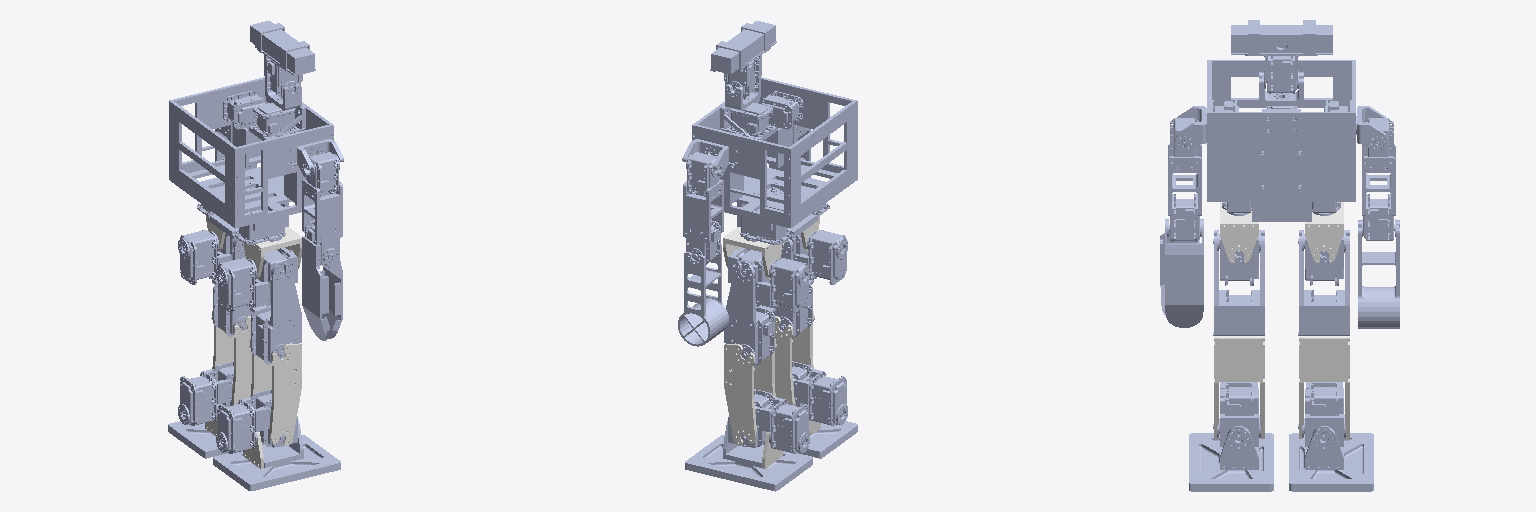
--- Render facts (derived) ---
Views: 3 orthographic renders of the robot side by side, from view 1: azimuth 30°, elevation 25°; view 2: azimuth 150°, elevation 25°; view 3: azimuth 270°, elevation 25°.
Model src_whole with 23 links and 22 joints (22 revolute), rooted at base_link, posed all joints at 0.
Links seen in each view (by area): view 1: base_link, RSHR_Link, RS_Link, RPd_Link, RK_Link, RPm_Link, NP_Link, RAP_Link, LAP_Link, LPm_Link, LK_Link, NY_Link (+5 smaller); view 2: base_link, LS_Link, LSHR_Link, LK_Link, LE_Link, LPd_Link, LPm_Link, NP_Link, LAP_Link, RAP_Link, RPm_Link, RK_Link (+5 smaller); view 3: base_link, RS_Link, LS_Link, NP_Link, RSHR_Link, LSHR_Link, RE_Link, RK_Link, LK_Link, RPd_Link, LPd_Link, LE_Link (+9 smaller).
Boxes of the visible links, left/top/right/bottom form: base_link: left=169, top=77, right=333, bottom=244; RSHR_Link: left=302, top=152, right=342, bottom=340; RS_Link: left=213, top=420, right=340, bottom=490; RPd_Link: left=250, top=263, right=301, bottom=364; RK_Link: left=249, top=339, right=301, bottom=445; RPm_Link: left=216, top=247, right=297, bottom=312; NP_Link: left=250, top=21, right=315, bottom=97; RAP_Link: left=216, top=389, right=297, bottom=453; LAP_Link: left=178, top=361, right=233, bottom=425; LPm_Link: left=178, top=230, right=243, bottom=284; LK_Link: left=211, top=311, right=251, bottom=405; NY_Link: left=253, top=77, right=301, bottom=136; base_link: left=692, top=77, right=857, bottom=244; LS_Link: left=685, top=421, right=812, bottom=491; LSHR_Link: left=683, top=152, right=723, bottom=264; LK_Link: left=724, top=339, right=776, bottom=445; LE_Link: left=678, top=244, right=728, bottom=346; LPd_Link: left=724, top=263, right=775, bottom=365; LPm_Link: left=728, top=247, right=809, bottom=312; NP_Link: left=710, top=21, right=776, bottom=97; LAP_Link: left=728, top=389, right=809, bottom=453; RAP_Link: left=792, top=361, right=847, bottom=426; RPm_Link: left=782, top=230, right=847, bottom=284; RK_Link: left=775, top=311, right=814, bottom=405; base_link: left=1207, top=60, right=1356, bottom=221; RS_Link: left=1189, top=429, right=1273, bottom=491; LS_Link: left=1289, top=429, right=1373, bottom=491; NP_Link: left=1231, top=20, right=1332, bottom=93; RSHR_Link: left=1160, top=118, right=1201, bottom=315; LSHR_Link: left=1362, top=118, right=1398, bottom=240; RE_Link: left=1165, top=219, right=1203, bottom=327; RK_Link: left=1214, top=336, right=1264, bottom=438; LK_Link: left=1299, top=336, right=1349, bottom=438; RPd_Link: left=1213, top=230, right=1264, bottom=335; LPd_Link: left=1298, top=230, right=1349, bottom=335; LE_Link: left=1358, top=220, right=1399, bottom=328.
Bounding box of the posed robot: 0.15 × 0.2813 × 0.5895 m (x, y, z).
Meshes: 23 distinct files referenced, 23 mesh visuals loaded (23 binary STL).

The robot description file, URDF, robot "src_whole":
<?xml version="1.0" encoding="utf-8"?>
<!-- This URDF was automatically created by SolidWorks to URDF Exporter! Originally created by Stephen Brawner ([email redacted]) 
     Commit Version: 1.6.0-1-g15f4949  Build Version: 1.6.7594.29634
     For more information, please see http://wiki.ros.org/sw_urdf_exporter -->
<robot
  name="src_whole">
  <link
    name="base_link">
    <inertial>
      <origin
        xyz="-0.0016597 -4.3961E-06 -0.0041776"
        rpy="0 0 0" />
      <mass
        value="0.75139" />
      <inertia
        ixx="0.0010428"
        ixy="-5.7481E-07"
        ixz="1.2257E-05"
        iyy="0.00092792"
        iyz="1.0592E-07"
        izz="0.0012549" />
    </inertial>
    <visual>
      <origin
        xyz="0 0 0"
        rpy="0 0 0" />
      <geometry>
        <mesh
          filename="package://src_whole/meshes/base_link.STL" />
      </geometry>
      <material
        name="">
        <color
          rgba="0.79216 0.81961 0.93333 1" />
      </material>
    </visual>
    <collision>
      <origin
        xyz="0 0 0"
        rpy="0 0 0" />
      <geometry>
        <mesh
          filename="package://src_whole/meshes/base_link.STL" />
      </geometry>
    </collision>
  </link>
  <link
    name="RP_link">
    <inertial>
      <origin
        xyz="0.0038843 -1.1976E-07 0.027759"
        rpy="0 0 0" />
      <mass
        value="0.032185" />
      <inertia
        ixx="8.1509E-06"
        ixy="2.6555E-22"
        ixz="2.5914E-09"
        iyy="6.7466E-06"
        iyz="2.4212E-11"
        izz="9.2429E-06" />
    </inertial>
    <visual>
      <origin
        xyz="0 0 0"
        rpy="0 0 0" />
      <geometry>
        <mesh
          filename="package://src_whole/meshes/RP_link.STL" />
      </geometry>
      <material
        name="">
        <color
          rgba="1 1 1 1" />
      </material>
    </visual>
    <collision>
      <origin
        xyz="0 0 0"
        rpy="0 0 0" />
      <geometry>
        <mesh
          filename="package://src_whole/meshes/RP_link.STL" />
      </geometry>
    </collision>
  </link>
  <joint
    name="RP"
    type="revolute">
    <origin
      xyz="-0.0085875 -0.049942 -0.11568"
      rpy="0 0 0" />
    <parent
      link="base_link" />
    <child
      link="RP_link" />
    <axis
      xyz="0 0 1" />
    <limit
      lower="0"
      upper="0"
      effort="0"
      velocity="0" />
  </joint>
  <link
    name="RPm_Link">
    <inertial>
      <origin
        xyz="-0.019927 2.638E-05 -0.014808"
        rpy="0 0 0" />
      <mass
        value="0.18625" />
      <inertia
        ixx="7.3206E-05"
        ixy="2.1305E-09"
        ixz="-8.425E-07"
        iyy="6.5856E-05"
        iyz="3.6064E-07"
        izz="4.4648E-05" />
    </inertial>
    <visual>
      <origin
        xyz="0 0 0"
        rpy="0 0 0" />
      <geometry>
        <mesh
          filename="package://src_whole/meshes/RPm_Link.STL" />
      </geometry>
      <material
        name="">
        <color
          rgba="0.79216 0.81961 0.93333 1" />
      </material>
    </visual>
    <collision>
      <origin
        xyz="0 0 0"
        rpy="0 0 0" />
      <geometry>
        <mesh
          filename="package://src_whole/meshes/RPm_Link.STL" />
      </geometry>
    </collision>
  </link>
  <joint
    name="RPm"
    type="revolute">
    <origin
      xyz="0 0 0"
      rpy="0 0 0" />
    <parent
      link="RP_link" />
    <child
      link="RPm_Link" />
    <axis
      xyz="-1 0 0" />
    <limit
      lower="0"
      upper="0"
      effort="0"
      velocity="0" />
  </joint>
  <link
    name="RPd_Link">
    <inertial>
      <origin
        xyz="0.0052288 -3.1661E-05 -0.087344"
        rpy="0 0 0" />
      <mass
        value="0.15516" />
      <inertia
        ixx="8.6755E-05"
        ixy="-2.1454E-09"
        ixz="6.58E-06"
        iyy="7.9237E-05"
        iyz="3.6064E-07"
        izz="3.7712E-05" />
    </inertial>
    <visual>
      <origin
        xyz="0 0 0"
        rpy="0 0 0" />
      <geometry>
        <mesh
          filename="package://src_whole/meshes/RPd_Link.STL" />
      </geometry>
      <material
        name="">
        <color
          rgba="0.79608 0.82353 0.93725 1" />
      </material>
    </visual>
    <collision>
      <origin
        xyz="0 0 0"
        rpy="0 0 0" />
      <geometry>
        <mesh
          filename="package://src_whole/meshes/RPd_Link.STL" />
      </geometry>
    </collision>
  </link>
  <joint
    name="RPd"
    type="revolute">
    <origin
      xyz="0 0 0"
      rpy="0 0 0" />
    <parent
      link="RPm_Link" />
    <child
      link="RPd_Link" />
    <axis
      xyz="0 1 0" />
    <limit
      lower="0"
      upper="0"
      effort="0"
      velocity="0" />
  </joint>
  <link
    name="RK_Link">
    <inertial>
      <origin
        xyz="0.011128 1.9486E-07 -0.046701"
        rpy="0 0 0" />
      <mass
        value="0.076683" />
      <inertia
        ixx="8.1384E-05"
        ixy="-5.3754E-13"
        ixz="-6.8263E-06"
        iyy="8.6027E-05"
        iyz="-1.5763E-12"
        izz="1.2623E-05" />
    </inertial>
    <visual>
      <origin
        xyz="0 0 0"
        rpy="0 0 0" />
      <geometry>
        <mesh
          filename="package://src_whole/meshes/RK_Link.STL" />
      </geometry>
      <material
        name="">
        <color
          rgba="0.96863 0.96863 0.96863 1" />
      </material>
    </visual>
    <collision>
      <origin
        xyz="0 0 0"
        rpy="0 0 0" />
      <geometry>
        <mesh
          filename="package://src_whole/meshes/RK_Link.STL" />
      </geometry>
    </collision>
  </link>
  <joint
    name="RK"
    type="revolute">
    <origin
      xyz="0.0008 0 -0.12"
      rpy="0 0 0" />
    <parent
      link="RPd_Link" />
    <child
      link="RK_Link" />
    <axis
      xyz="0 1 0" />
    <limit
      lower="0"
      upper="0"
      effort="0"
      velocity="0" />
  </joint>
  <link
    name="RAP_Link">
    <inertial>
      <origin
        xyz="-0.019927 -3.5076E-05 0.014808"
        rpy="0 0 0" />
      <mass
        value="0.18625" />
      <inertia
        ixx="7.3206E-05"
        ixy="-2.1306E-09"
        ixz="8.425E-07"
        iyy="6.5856E-05"
        iyz="3.6064E-07"
        izz="4.4648E-05" />
    </inertial>
    <visual>
      <origin
        xyz="0 0 0"
        rpy="0 0 0" />
      <geometry>
        <mesh
          filename="package://src_whole/meshes/RAP_Link.STL" />
      </geometry>
      <material
        name="">
        <color
          rgba="0.79216 0.81961 0.93333 1" />
      </material>
    </visual>
    <collision>
      <origin
        xyz="0 0 0"
        rpy="0 0 0" />
      <geometry>
        <mesh
          filename="package://src_whole/meshes/RAP_Link.STL" />
      </geometry>
    </collision>
  </link>
  <joint
    name="RAP"
    type="revolute">
    <origin
      xyz="-0.00079565 0 -0.12"
      rpy="0 0 0" />
    <parent
      link="RK_Link" />
    <child
      link="RAP_Link" />
    <axis
      xyz="0 1 0" />
    <limit
      lower="0"
      upper="0"
      effort="0"
      velocity="0" />
  </joint>
  <link
    name="RAR_Link">
    <inertial>
      <origin
        xyz="-0.0266 -2.1011E-08 -0.019713"
        rpy="0 0 0" />
      <mass
        value="0.0084038" />
      <inertia
        ixx="2.5925E-06"
        ixy="-1.2568E-22"
        ixz="-1.2942E-22"
        iyy="1.3986E-06"
        iyz="1.2106E-11"
        izz="1.2289E-06" />
    </inertial>
    <visual>
      <origin
        xyz="0 0 0"
        rpy="0 0 0" />
      <geometry>
        <mesh
          filename="package://src_whole/meshes/RAR_Link.STL" />
      </geometry>
      <material
        name="">
        <color
          rgba="0.92549 0.92549 0.92549 1" />
      </material>
    </visual>
    <collision>
      <origin
        xyz="0 0 0"
        rpy="0 0 0" />
      <geometry>
        <mesh
          filename="package://src_whole/meshes/RAR_Link.STL" />
      </geometry>
    </collision>
  </link>
  <joint
    name="RAR"
    type="revolute">
    <origin
      xyz="0 0 0"
      rpy="0 0 0" />
    <parent
      link="RAP_Link" />
    <child
      link="RAR_Link" />
    <axis
      xyz="-1 0 0" />
    <limit
      lower="0"
      upper="0"
      effort="0"
      velocity="0" />
  </joint>
  <link
    name="RS_Link">
    <inertial>
      <origin
        xyz="0.0047189 -0.0068892 0.0070711"
        rpy="0 0 0" />
      <mass
        value="0.14508" />
      <inertia
        ixx="0.00011554"
        ixy="3.6327E-13"
        ixz="-1.4699E-12"
        iyy="0.0002103"
        iyz="-1.3291E-06"
        izz="0.00031871" />
    </inertial>
    <visual>
      <origin
        xyz="0 0 0"
        rpy="0 0 0" />
      <geometry>
        <mesh
          filename="package://src_whole/meshes/RS_Link.STL" />
      </geometry>
      <material
        name="">
        <color
          rgba="0.79216 0.81961 0.93333 1" />
      </material>
    </visual>
    <collision>
      <origin
        xyz="0 0 0"
        rpy="0 0 0" />
      <geometry>
        <mesh
          filename="package://src_whole/meshes/RS_Link.STL" />
      </geometry>
    </collision>
  </link>
  <joint
    name="RS"
    type="revolute">
    <origin
      xyz="0.00079565 0 -0.05"
      rpy="0 0 0" />
    <parent
      link="RAR_Link" />
    <child
      link="RS_Link" />
    <axis
      xyz="0 0 1" />
    <limit
      lower="0"
      upper="0"
      effort="0"
      velocity="0" />
  </joint>
  <link
    name="LP_Link">
    <inertial>
      <origin
        xyz="0.0038843 -1.1976E-07 0.027759"
        rpy="0 0 0" />
      <mass
        value="0.032185" />
      <inertia
        ixx="8.1509E-06"
        ixy="-3.4128E-22"
        ixz="2.5914E-09"
        iyy="6.7466E-06"
        iyz="2.4212E-11"
        izz="9.2429E-06" />
    </inertial>
    <visual>
      <origin
        xyz="0 0 0"
        rpy="0 0 0" />
      <geometry>
        <mesh
          filename="package://src_whole/meshes/LP_Link.STL" />
      </geometry>
      <material
        name="">
        <color
          rgba="1 1 1 1" />
      </material>
    </visual>
    <collision>
      <origin
        xyz="0 0 0"
        rpy="0 0 0" />
      <geometry>
        <mesh
          filename="package://src_whole/meshes/LP_Link.STL" />
      </geometry>
    </collision>
  </link>
  <joint
    name="LP"
    type="revolute">
    <origin
      xyz="-0.0085875 0.050058 -0.11568"
      rpy="0 0 0" />
    <parent
      link="base_link" />
    <child
      link="LP_Link" />
    <axis
      xyz="0 0 1" />
    <limit
      lower="0"
      upper="0"
      effort="0"
      velocity="0" />
  </joint>
  <link
    name="LPm_Link">
    <inertial>
      <origin
        xyz="-0.0199274437208582 2.63799340881159E-05 -0.0148075586222277"
        rpy="0 0 0" />
      <mass
        value="0.186246782923583" />
      <inertia
        ixx="7.32062294794612E-05"
        ixy="2.13048548408462E-09"
        ixz="-8.42502475240223E-07"
        iyy="6.5855652034397E-05"
        iyz="3.6064211899651E-07"
        izz="4.46475355146299E-05" />
    </inertial>
    <visual>
      <origin
        xyz="0 0 0"
        rpy="0 0 0" />
      <geometry>
        <mesh
          filename="package://src_whole/meshes/LPm_Link.STL" />
      </geometry>
      <material
        name="">
        <color
          rgba="0.792156862745098 0.819607843137255 0.933333333333333 1" />
      </material>
    </visual>
    <collision>
      <origin
        xyz="0 0 0"
        rpy="0 0 0" />
      <geometry>
        <mesh
          filename="package://src_whole/meshes/LPm_Link.STL" />
      </geometry>
    </collision>
  </link>
  <joint
    name="LPm"
    type="revolute">
    <origin
      xyz="0 0 0"
      rpy="0 0 0" />
    <parent
      link="LP_Link" />
    <child
      link="LPm_Link" />
    <axis
      xyz="-1 0 0" />
    <limit
      lower="0"
      upper="0"
      effort="0"
      velocity="0" />
  </joint>
  <link
    name="LPd_Link">
    <inertial>
      <origin
        xyz="0.00522878146276717 -3.16609468157154E-05 -0.0873435911372789"
        rpy="0 0 0" />
      <mass
        value="0.155158404166415" />
      <inertia
        ixx="8.67547471770679E-05"
        ixy="-2.14540531371321E-09"
        ixz="6.57998968532937E-06"
        iyy="7.92367440815385E-05"
        iyz="3.60637120742753E-07"
        izz="3.77121677268322E-05" />
    </inertial>
    <visual>
      <origin
        xyz="0 0 0"
        rpy="0 0 0" />
      <geometry>
        <mesh
          filename="package://src_whole/meshes/LPd_Link.STL" />
      </geometry>
      <material
        name="">
        <color
          rgba="0.796078431372549 0.823529411764706 0.937254901960784 1" />
      </material>
    </visual>
    <collision>
      <origin
        xyz="0 0 0"
        rpy="0 0 0" />
      <geometry>
        <mesh
          filename="package://src_whole/meshes/LPd_Link.STL" />
      </geometry>
    </collision>
  </link>
  <joint
    name="LPd"
    type="revolute">
    <origin
      xyz="0 0 0"
      rpy="0 0 0" />
    <parent
      link="LPm_Link" />
    <child
      link="LPd_Link" />
    <axis
      xyz="0 -1 0" />
    <limit
      lower="0"
      upper="0"
      effort="0"
      velocity="0" />
  </joint>
  <link
    name="LK_Link">
    <inertial>
      <origin
        xyz="0.0111276747678033 1.94862065386325E-07 -0.0467011594340601"
        rpy="0 0 0" />
      <mass
        value="0.0766833061478168" />
      <inertia
        ixx="8.13835258979848E-05"
        ixy="-5.3753940049853E-13"
        ixz="-6.82632129314703E-06"
        iyy="8.60266643258083E-05"
        iyz="-1.57628398340406E-12"
        izz="1.2622932439864E-05" />
    </inertial>
    <visual>
      <origin
        xyz="0 0 0"
        rpy="0 0 0" />
      <geometry>
        <mesh
          filename="package://src_whole/meshes/LK_Link.STL" />
      </geometry>
      <material
        name="">
        <color
          rgba="0.968627450980392 0.968627450980392 0.968627450980392 1" />
      </material>
    </visual>
    <collision>
      <origin
        xyz="0 0 0"
        rpy="0 0 0" />
      <geometry>
        <mesh
          filename="package://src_whole/meshes/LK_Link.STL" />
      </geometry>
    </collision>
  </link>
  <joint
    name="LK"
    type="revolute">
    <origin
      xyz="0.0008 0 -0.12"
      rpy="0 0 0" />
    <parent
      link="LPd_Link" />
    <child
      link="LK_Link" />
    <axis
      xyz="0 -1 0" />
    <limit
      lower="0"
      upper="0"
      effort="0"
      velocity="0" />
  </joint>
  <link
    name="LAP_Link">
    <inertial>
      <origin
        xyz="-0.0199274436970726 -3.50764599975489E-05 0.0148075586274029"
        rpy="0 0 0" />
      <mass
        value="0.186246783228343" />
      <inertia
        ixx="7.3206229639809E-05"
        ixy="-2.13055245059606E-09"
        ixz="8.42502485765701E-07"
        iyy="6.58556520206296E-05"
        iyz="3.60642133292609E-07"
        izz="4.46475355735441E-05" />
    </inertial>
    <visual>
      <origin
        xyz="0 0 0"
        rpy="0 0 0" />
      <geometry>
        <mesh
          filename="package://src_whole/meshes/LAP_Link.STL" />
      </geometry>
      <material
        name="">
        <color
          rgba="0.792156862745098 0.819607843137255 0.933333333333333 1" />
      </material>
    </visual>
    <collision>
      <origin
        xyz="0 0 0"
        rpy="0 0 0" />
      <geometry>
        <mesh
          filename="package://src_whole/meshes/LAP_Link.STL" />
      </geometry>
    </collision>
  </link>
  <joint
    name="LAP"
    type="revolute">
    <origin
      xyz="-0.00079565 0 -0.12"
      rpy="0 0 0" />
    <parent
      link="LK_Link" />
    <child
      link="LAP_Link" />
    <axis
      xyz="0 -1 0" />
    <limit
      lower="0"
      upper="0"
      effort="0"
      velocity="0" />
  </joint>
  <link
    name="LAR_Link">
    <inertial>
      <origin
        xyz="-0.0265999999999998 2.10111819470837E-08 -0.0197134610159774"
        rpy="0 0 0" />
      <mass
        value="0.00840381240077212" />
      <inertia
        ixx="2.59254240262507E-06"
        ixy="-2.03594544858161E-22"
        ixz="1.87534589317395E-22"
        iyy="1.3986189914568E-06"
        iyz="-1.21059550544972E-11"
        izz="1.22893929617148E-06" />
    </inertial>
    <visual>
      <origin
        xyz="0 0 0"
        rpy="0 0 0" />
      <geometry>
        <mesh
          filename="package://src_whole/meshes/LAR_Link.STL" />
      </geometry>
      <material
        name="">
        <color
          rgba="0.925490196078431 0.925490196078431 0.925490196078431 1" />
      </material>
    </visual>
    <collision>
      <origin
        xyz="0 0 0"
        rpy="0 0 0" />
      <geometry>
        <mesh
          filename="package://src_whole/meshes/LAR_Link.STL" />
      </geometry>
    </collision>
  </link>
  <joint
    name="LAR"
    type="revolute">
    <origin
      xyz="0 0 0"
      rpy="0 0 0" />
    <parent
      link="LAP_Link" />
    <child
      link="LAR_Link" />
    <axis
      xyz="-1 0 0" />
    <limit
      lower="0"
      upper="0"
      effort="0"
      velocity="0" />
  </joint>
  <link
    name="LS_Link">
    <inertial>
      <origin
        xyz="0.00471890565254696 0.00668999646805382 0.0070711085407022"
        rpy="0 0 0" />
      <mass
        value="0.145082768731353" />
      <inertia
        ixx="0.000115541639630402"
        ixy="3.63269540067987E-13"
        ixz="1.46992094570901E-12"
        iyy="0.000210296977122793"
        iyz="1.32915560839557E-06"
        izz="0.000318707327283813" />
    </inertial>
    <visual>
      <origin
        xyz="0 0 0"
        rpy="0 0 0" />
      <geometry>
        <mesh
          filename="package://src_whole/meshes/LS_Link.STL" />
      </geometry>
      <material
        name="">
        <color
          rgba="0.792156862745098 0.819607843137255 0.933333333333333 1" />
      </material>
    </visual>
    <collision>
      <origin
        xyz="0 0 0"
        rpy="0 0 0" />
      <geometry>
        <mesh
          filename="package://src_whole/meshes/LS_Link.STL" />
      </geometry>
    </collision>
  </link>
  <joint
    name="LS"
    type="revolute">
    <origin
      xyz="0.00079565 0 -0.05"
      rpy="0 0 0" />
    <parent
      link="LAR_Link" />
    <child
      link="LS_Link" />
    <axis
      xyz="0 0 1" />
    <limit
      lower="0"
      upper="0"
      effort="0"
      velocity="0" />
  </joint>
  <link
    name="RSHP_Link">
    <inertial>
      <origin
        xyz="5.05358310753934E-10 -0.0102484524413763 -0.00163770551812467"
        rpy="0 0 0" />
      <mass
        value="0.0144695012225896" />
      <inertia
        ixx="2.03926408348208E-06"
        ixy="-6.3954969169707E-13"
        ixz="-8.85004251820847E-14"
        iyy="6.57716531687297E-06"
        iyz="-2.36867353157236E-07"
        izz="6.75696022924945E-06" />
    </inertial>
    <visual>
      <origin
        xyz="0 0 0"
        rpy="0 0 0" />
      <geometry>
        <mesh
          filename="package://src_whole/meshes/RSHP_Link.STL" />
      </geometry>
      <material
        name="">
        <color
          rgba="0.792156862745098 0.819607843137255 0.933333333333333 1" />
      </material>
    </visual>
    <collision>
      <origin
        xyz="0 0 0"
        rpy="0 0 0" />
      <geometry>
        <mesh
          filename="package://src_whole/meshes/RSHP_Link.STL" />
      </geometry>
    </collision>
  </link>
  <joint
    name="RSHP"
    type="revolute">
    <origin
      xyz="0.033212 -0.088193 0.054616"
      rpy="0 0 0" />
    <parent
      link="base_link" />
    <child
      link="RSHP_Link" />
    <axis
      xyz="0 1 0" />
    <limit
      lower="0"
      upper="0"
      effort="0"
      velocity="0" />
  </joint>
  <link
    name="RSHR_Link">
    <inertial>
      <origin
        xyz="-0.0233452115729359 -0.000684322196430803 -0.0791778498091477"
        rpy="0 0 0" />
      <mass
        value="0.146207436573997" />
      <inertia
        ixx="8.16862265605305E-05"
        ixy="4.8821602018686E-08"
        ixz="1.76669643053293E-06"
        iyy="7.43474727120352E-05"
        iyz="-1.52347697892699E-06"
        izz="3.46704833049691E-05" />
    </inertial>
    <visual>
      <origin
        xyz="0 0 0"
        rpy="0 0 0" />
      <geometry>
        <mesh
          filename="package://src_whole/meshes/RSHR_Link.STL" />
      </geometry>
      <material
        name="">
        <color
          rgba="0.792156862745098 0.819607843137255 0.933333333333333 1" />
      </material>
    </visual>
    <collision>
      <origin
        xyz="0 0 0"
        rpy="0 0 0" />
      <geometry>
        <mesh
          filename="package://src_whole/meshes/RSHR_Link.STL" />
      </geometry>
    </collision>
  </link>
  <joint
    name="RSHR"
    type="revolute">
    <origin
      xyz="0.020275 -0.025656 -0.01045"
      rpy="0 0 0" />
    <parent
      link="RSHP_Link" />
    <child
      link="RSHR_Link" />
    <axis
      xyz="-1 0 0" />
    <limit
      lower="0"
      upper="0"
      effort="0"
      velocity="0" />
  </joint>
  <link
    name="RE_Link">
    <inertial>
      <origin
        xyz="0.0115140885327483 0.0202750000000001 -0.0540071318642939"
        rpy="0 0 0" />
      <mass
        value="0.0259694911902397" />
      <inertia
        ixx="3.68213111100012E-05"
        ixy="4.73793030927533E-20"
        ixz="7.15914463101271E-07"
        iyy="3.12346533384092E-05"
        iyz="1.72746610222329E-20"
        izz="6.75949596292807E-06" />
    </inertial>
    <visual>
      <origin
        xyz="0 0 0"
        rpy="0 0 0" />
      <geometry>
        <mesh
          filename="package://src_whole/meshes/RE_Link.STL" />
      </geometry>
      <material
        name="">
        <color
          rgba="0.792156862745098 0.819607843137255 0.933333333333333 1" />
      </material>
    </visual>
    <collision>
      <origin
        xyz="0 0 0"
        rpy="0 0 0" />
      <geometry>
        <mesh
          filename="package://src_whole/meshes/RE_Link.STL" />
      </geometry>
    </collision>
  </link>
  <joint
    name="RE"
    type="revolute">
    <origin
      xyz="-0.02075 -0.02075 -0.1231"
      rpy="0 0 0" />
    <parent
      link="RSHR_Link" />
    <child
      link="RE_Link" />
    <axis
      xyz="0 1 0" />
    <limit
      lower="0"
      upper="0"
      effort="0"
      velocity="0" />
  </joint>
  <link
    name="LSHP_Link">
    <inertial>
      <origin
        xyz="-5.05358643820841E-10 0.0102484524413764 -0.00163770551812472"
        rpy="0 0 0" />
      <mass
        value="0.0144695012225895" />
      <inertia
        ixx="2.03926408348207E-06"
        ixy="-6.39549689320741E-13"
        ixz="8.85004270467586E-14"
        iyy="6.57716531687295E-06"
        iyz="2.36867353157235E-07"
        izz="6.75696022924943E-06" />
    </inertial>
    <visual>
      <origin
        xyz="0 0 0"
        rpy="0 0 0" />
      <geometry>
        <mesh
          filename="package://src_whole/meshes/LSHP_Link.STL" />
      </geometry>
      <material
        name="">
        <color
          rgba="0.792156862745098 0.819607843137255 0.933333333333333 1" />
      </material>
    </visual>
    <collision>
      <origin
        xyz="0 0 0"
        rpy="0 0 0" />
      <geometry>
        <mesh
          filename="package://src_whole/meshes/LSHP_Link.STL" />
      </geometry>
    </collision>
  </link>
  <joint
    name="LSHP"
    type="revolute">
    <origin
      xyz="0.033212 0.088307 0.054616"
      rpy="0 0 0" />
    <parent
      link="base_link" />
    <child
      link="LSHP_Link" />
    <axis
      xyz="0 -1 0" />
    <limit
      lower="0"
      upper="0"
      effort="0"
      velocity="0" />
  </joint>
  <link
    name="LSHR_Link">
    <inertial>
      <origin
        xyz="-0.0207397777704541 1.02222295450954E-05 -0.0612187136226038"
        rpy="0 0 0" />
      <mass
        value="0.123123831871186" />
      <inertia
        ixx="4.41336395130152E-05"
        ixy="1.41884862487717E-10"
        ixz="-1.13936180735272E-07"
        iyy="4.1405112121774E-05"
        iyz="1.08534075577797E-07"
        izz="2.93256792907984E-05" />
    </inertial>
    <visual>
      <origin
        xyz="0 0 0"
        rpy="0 0 0" />
      <geometry>
        <mesh
          filename="package://src_whole/meshes/LSHR_Link.STL" />
      </geometry>
      <material
        name="">
        <color
          rgba="0.792156862745098 0.819607843137255 0.933333333333333 1" />
      </material>
    </visual>
    <collision>
      <origin
        xyz="0 0 0"
        rpy="0 0 0" />
      <geometry>
        <mesh
          filename="package://src_whole/meshes/LSHR_Link.STL" />
      </geometry>
    </collision>
  </link>
  <joint
    name="LSHR"
    type="revolute">
    <origin
      xyz="0.020275 0.025656 -0.01045"
      rpy="0 0 0" />
    <parent
      link="LSHP_Link" />
    <child
      link="LSHR_Link" />
    <axis
      xyz="-1 0 0" />
    <limit
      lower="0"
      upper="0"
      effort="0"
      velocity="0" />
  </joint>
  <link
    name="LE_Link">
    <inertial>
      <origin
        xyz="3.33066907387547E-16 -0.0202749952457634 -0.0785896598029448"
        rpy="0 0 0" />
      <mass
        value="0.0479318072746173" />
      <inertia
        ixx="7.80085387978043E-05"
        ixy="7.08556284351143E-20"
        ixz="1.52370046308185E-19"
        iyy="7.27678062360127E-05"
        iyz="1.80117770119725E-12"
        izz="2.1793610322629E-05" />
    </inertial>
    <visual>
      <origin
        xyz="0 0 0"
        rpy="0 0 0" />
      <geometry>
        <mesh
          filename="package://src_whole/meshes/LE_Link.STL" />
      </geometry>
      <material
        name="">
        <color
          rgba="0.792156862745098 0.819607843137255 0.933333333333333 1" />
      </material>
    </visual>
    <collision>
      <origin
        xyz="0 0 0"
        rpy="0 0 0" />
      <geometry>
        <mesh
          filename="package://src_whole/meshes/LE_Link.STL" />
      </geometry>
    </collision>
  </link>
  <joint
    name="LE"
    type="revolute">
    <origin
      xyz="-0.02075 0.02075 -0.1231"
      rpy="0 0 0" />
    <parent
      link="LSHR_Link" />
    <child
      link="LE_Link" />
    <axis
      xyz="0 -1 0" />
    <limit
      lower="0"
      upper="0"
      effort="0"
      velocity="0" />
  </joint>
  <link
    name="NY_Link">
    <inertial>
      <origin
        xyz="-0.00846104357244815 -1.48520606417513E-06 -0.0111755305906017"
        rpy="0 0 0" />
      <mass
        value="0.0588745430981537" />
      <inertia
        ixx="1.41764433677202E-05"
        ixy="1.41874516285518E-09"
        ixz="-1.8275560053619E-07"
        iyy="1.41936987818952E-05"
        iyz="2.61312463555199E-12"
        izz="1.67049454933915E-05" />
    </inertial>
    <visual>
      <origin
        xyz="0 0 0"
        rpy="0 0 0" />
      <geometry>
        <mesh
          filename="package://src_whole/meshes/NY_Link.STL" />
      </geometry>
      <material
        name="">
        <color
          rgba="0.792156862745098 0.819607843137255 0.933333333333333 1" />
      </material>
    </visual>
    <collision>
      <origin
        xyz="0 0 0"
        rpy="0 0 0" />
      <geometry>
        <mesh
          filename="package://src_whole/meshes/NY_Link.STL" />
      </geometry>
    </collision>
  </link>
  <joint
    name="NY"
    type="revolute">
    <origin
      xyz="0.038812 5.7474E-05 0.086566"
      rpy="0 0 0" />
    <parent
      link="base_link" />
    <child
      link="NY_Link" />
    <axis
      xyz="0 0 1" />
    <limit
      lower="0"
      upper="0"
      effort="0"
      velocity="0" />
  </joint>
  <link
    name="NP_Link">
    <inertial>
      <origin
        xyz="-0.000876154267045903 0.019782194687634 0.0385017098571392"
        rpy="0 0 0" />
      <mass
        value="0.140815797076505" />
      <inertia
        ixx="0.000130899546914091"
        ixy="-3.21261177172063E-07"
        ixz="1.07462455995031E-07"
        iyy="2.57792831914021E-05"
        iyz="-5.11711883900831E-07"
        izz="0.000128105315305169" />
    </inertial>
    <visual>
      <origin
        xyz="0 0 0"
        rpy="0 0 0" />
      <geometry>
        <mesh
          filename="package://src_whole/meshes/NP_Link.STL" />
      </geometry>
      <material
        name="">
        <color
          rgba="0.792156862745098 0.819607843137255 0.933333333333333 1" />
      </material>
    </visual>
    <collision>
      <origin
        xyz="0 0 0"
        rpy="0 0 0" />
      <geometry>
        <mesh
          filename="package://src_whole/meshes/NP_Link.STL" />
      </geometry>
    </collision>
  </link>
  <joint
    name="NP"
    type="revolute">
    <origin
      xyz="0 -0.020275 0.0295"
      rpy="0 0 0" />
    <parent
      link="NY_Link" />
    <child
      link="NP_Link" />
    <axis
      xyz="0 1 0" />
    <limit
      lower="0"
      upper="0"
      effort="0"
      velocity="0" />
  </joint>
</robot>
